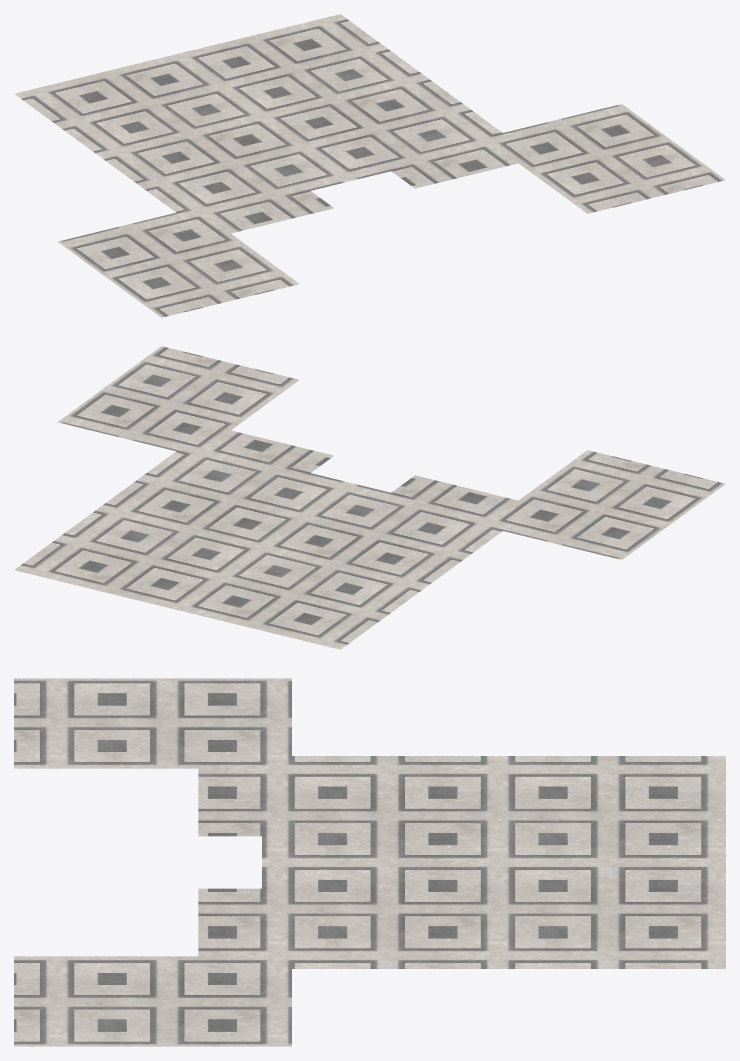
Rendered from Upper_Floor_Art.fbx.
3 renders of one model, top to bottom at view 1: azimuth 30°, elevation 25°; view 2: azimuth 150°, elevation 25°; view 3: azimuth 270°, elevation 25°, orthographic. The views are drawn at different scales.
Parts seen in each view (by area): view 1: Plane; view 2: Plane; view 3: Plane.
Boxes of the visible parts, <box> form: Plane: <box>14,14,725,317</box>; Plane: <box>14,346,725,649</box>; Plane: <box>14,678,725,1046</box>.
Bounding box in the file's own units: 2785 × 0 × 2277.
